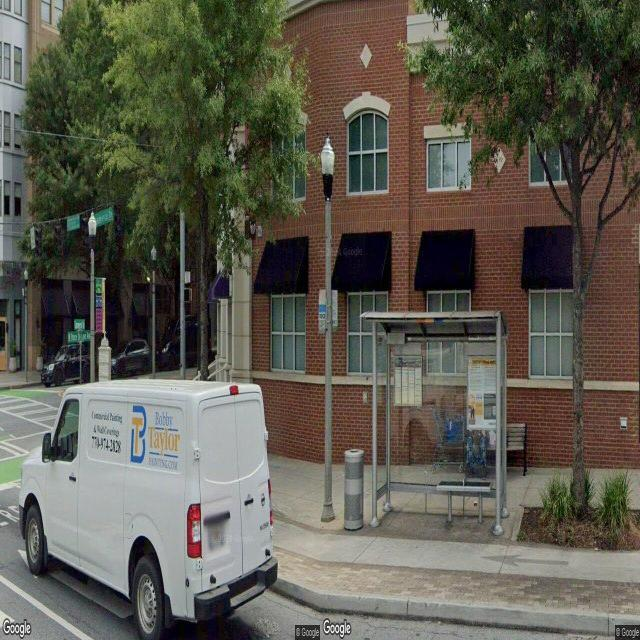seating: (464, 424, 528, 476), (436, 478, 492, 527)
shelter: (356, 310, 508, 540)
trash_can: (344, 446, 364, 530)
